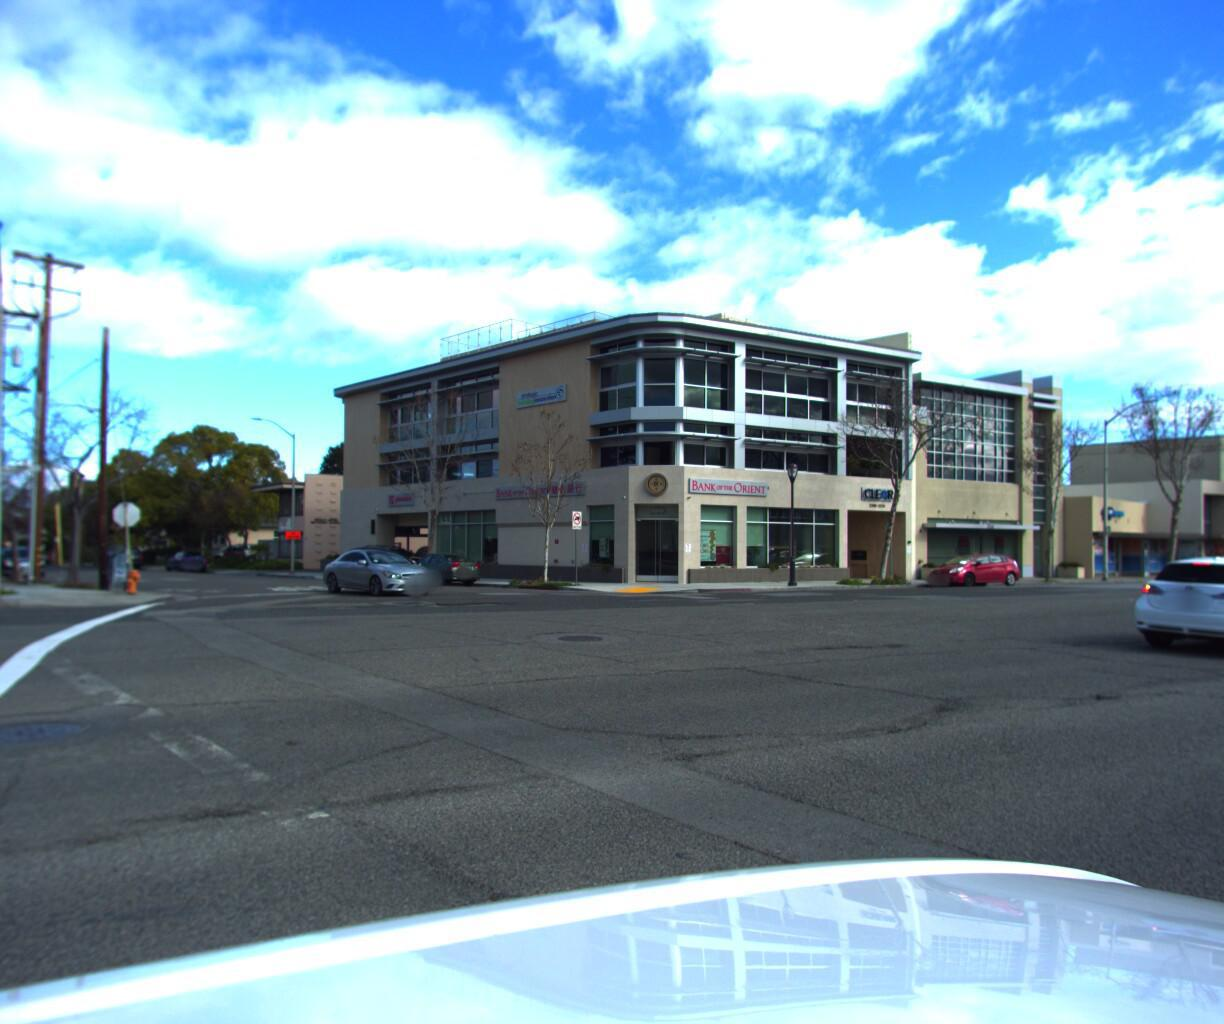car: (1107, 547, 1224, 660), (316, 546, 448, 596), (918, 547, 1019, 585), (395, 548, 489, 587), (0, 542, 59, 580), (159, 544, 218, 573), (138, 539, 199, 562), (107, 542, 152, 566)
